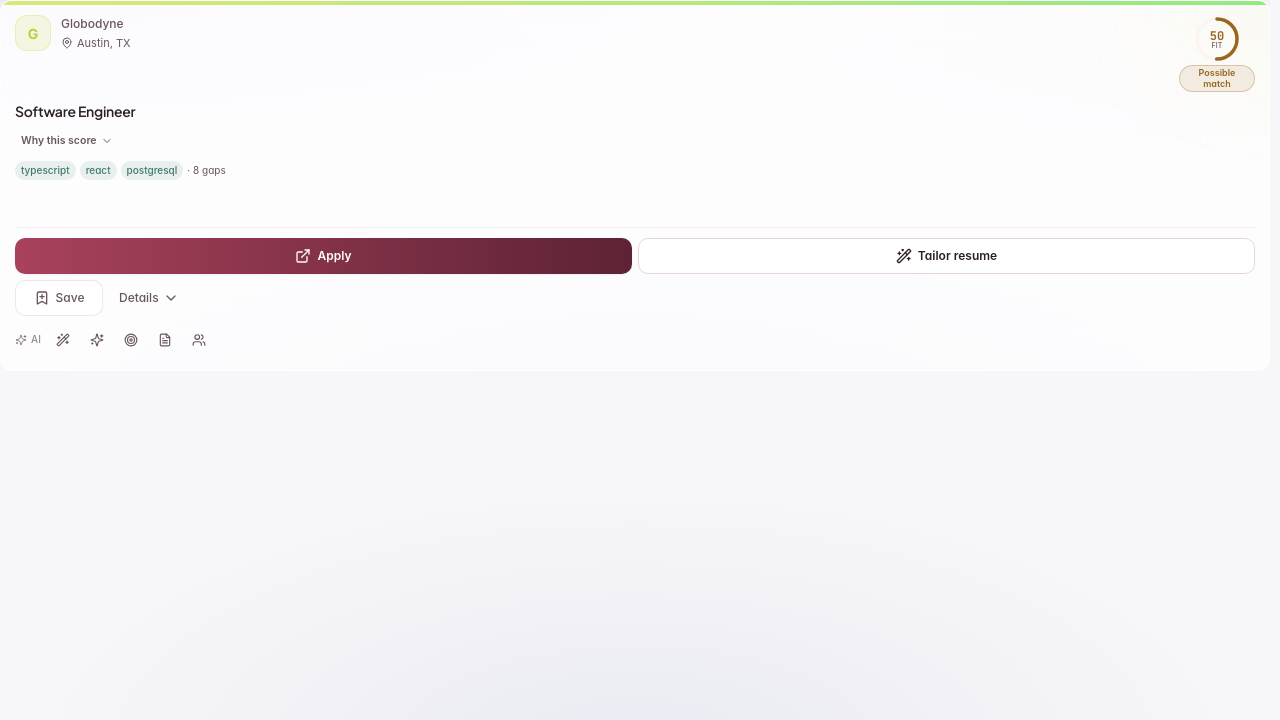
Test: JobCard fit verdict › Why this score opens a scrollable panel with the full receipts
Click the button "Why this score" at (67, 141), box [15,131,118,151]
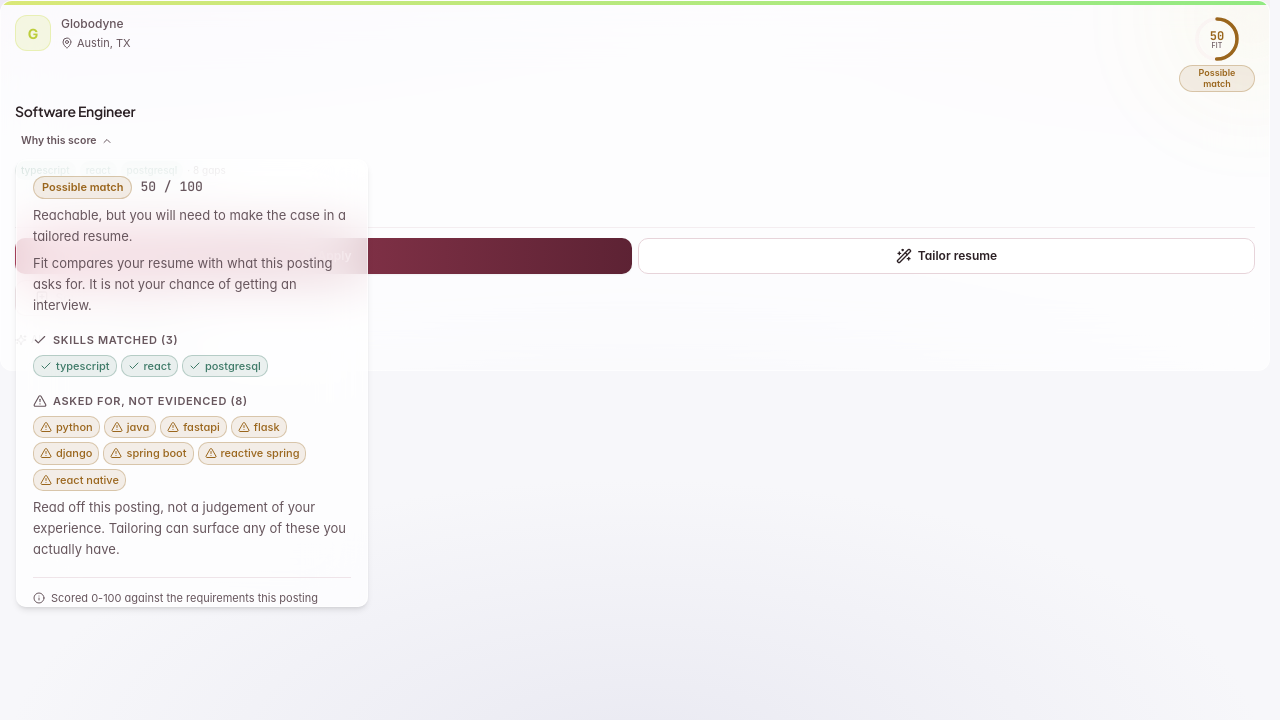
Check: the heading "Asked for, not evidenced (8)" is shown, box [33,394,248,408]
Check: the text "asked for, not evidenced (8)" is shown, box [53,394,248,408]
